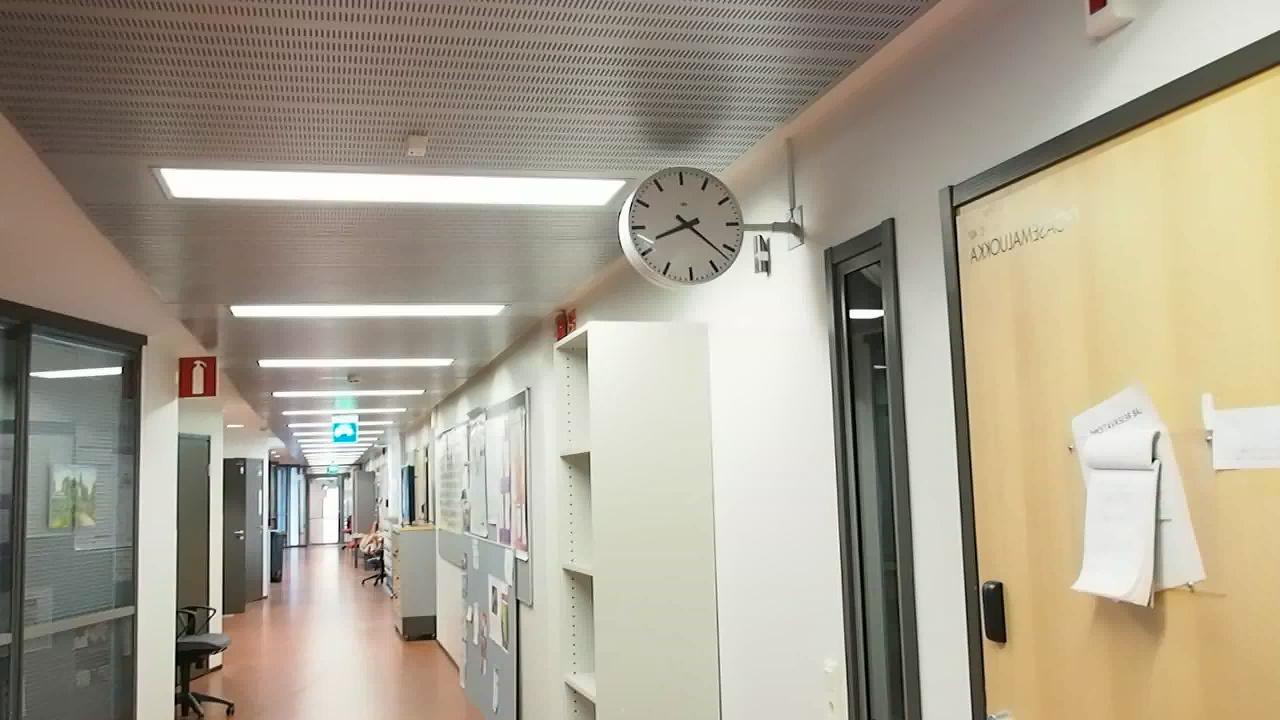clock: (621, 164, 747, 288)
